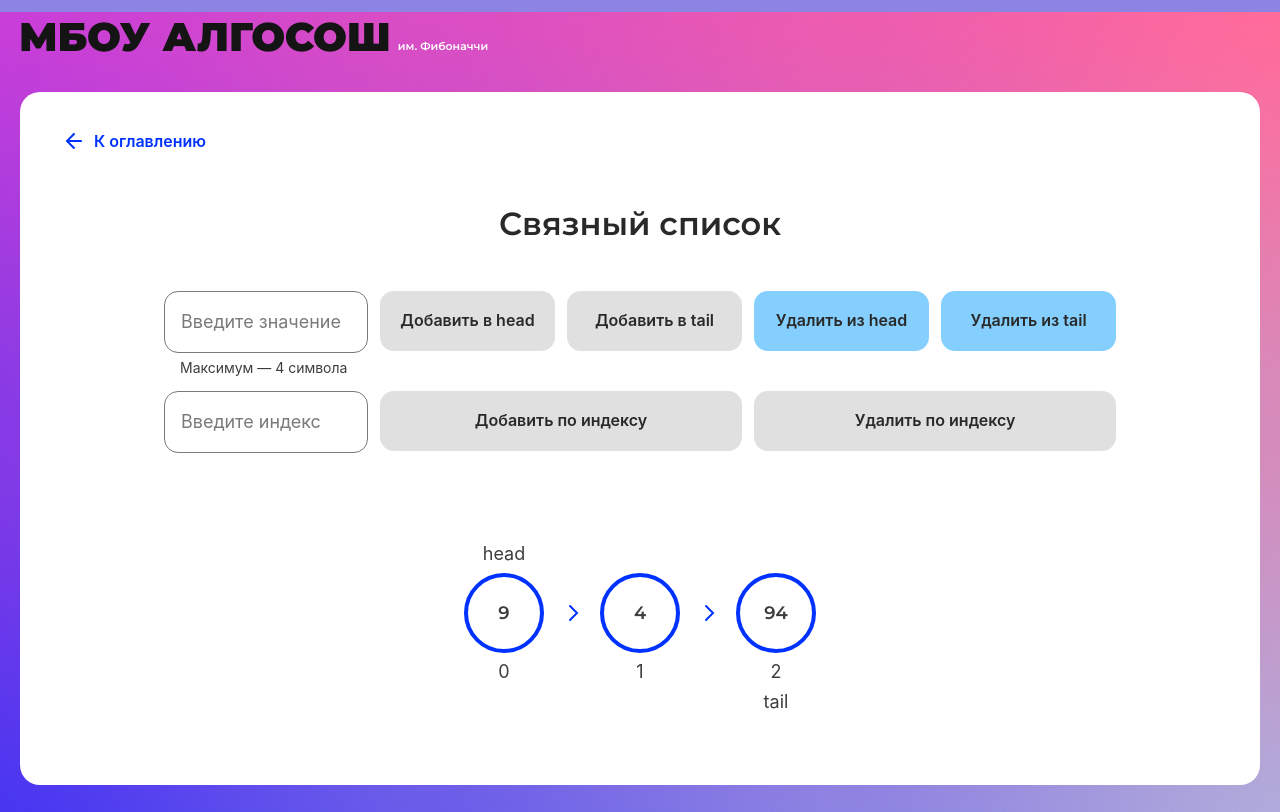
List tests › Add element to head
This screenshot has width=1280, height=812.
Type "one" into the field with test id "valueInput". click: (266,322)
box: left=164, top=291, right=368, bottom=353
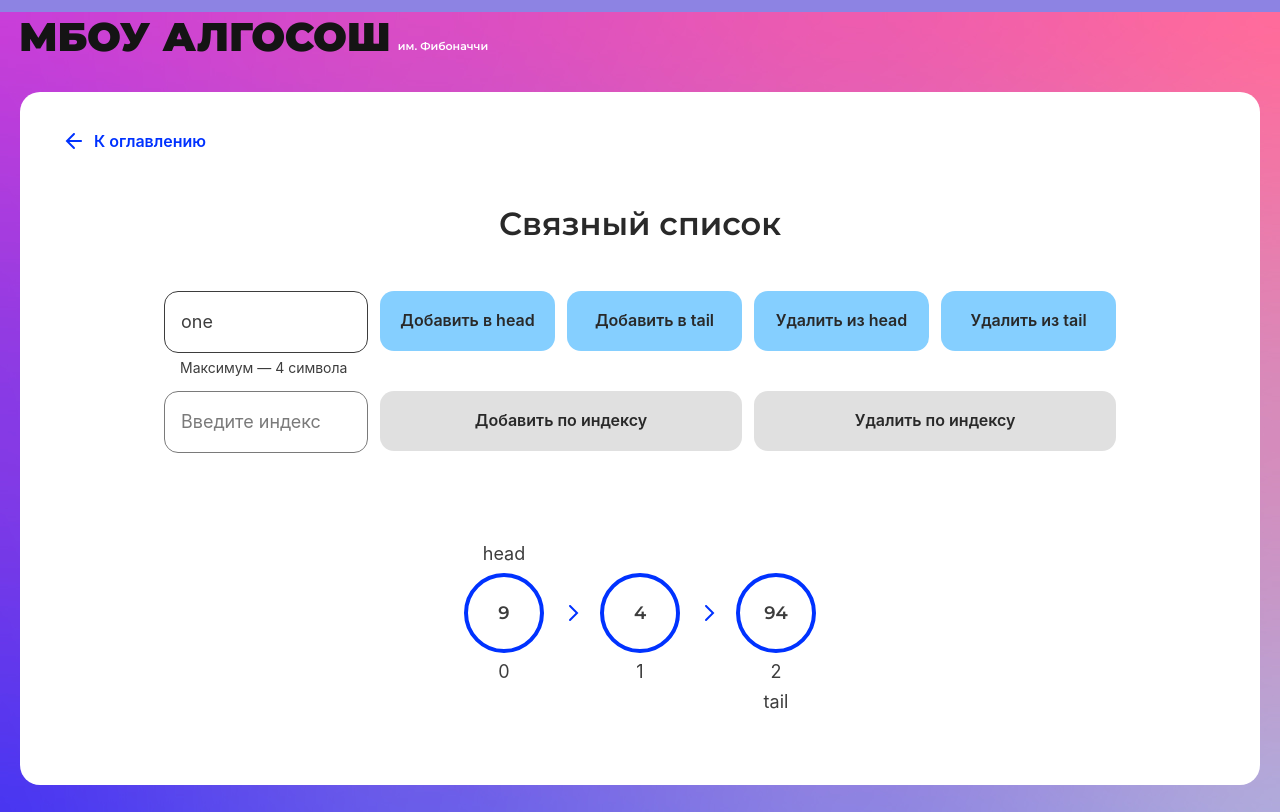
Click the button with test id "addToHead". click: (468,321)
box: left=380, top=291, right=555, bottom=351
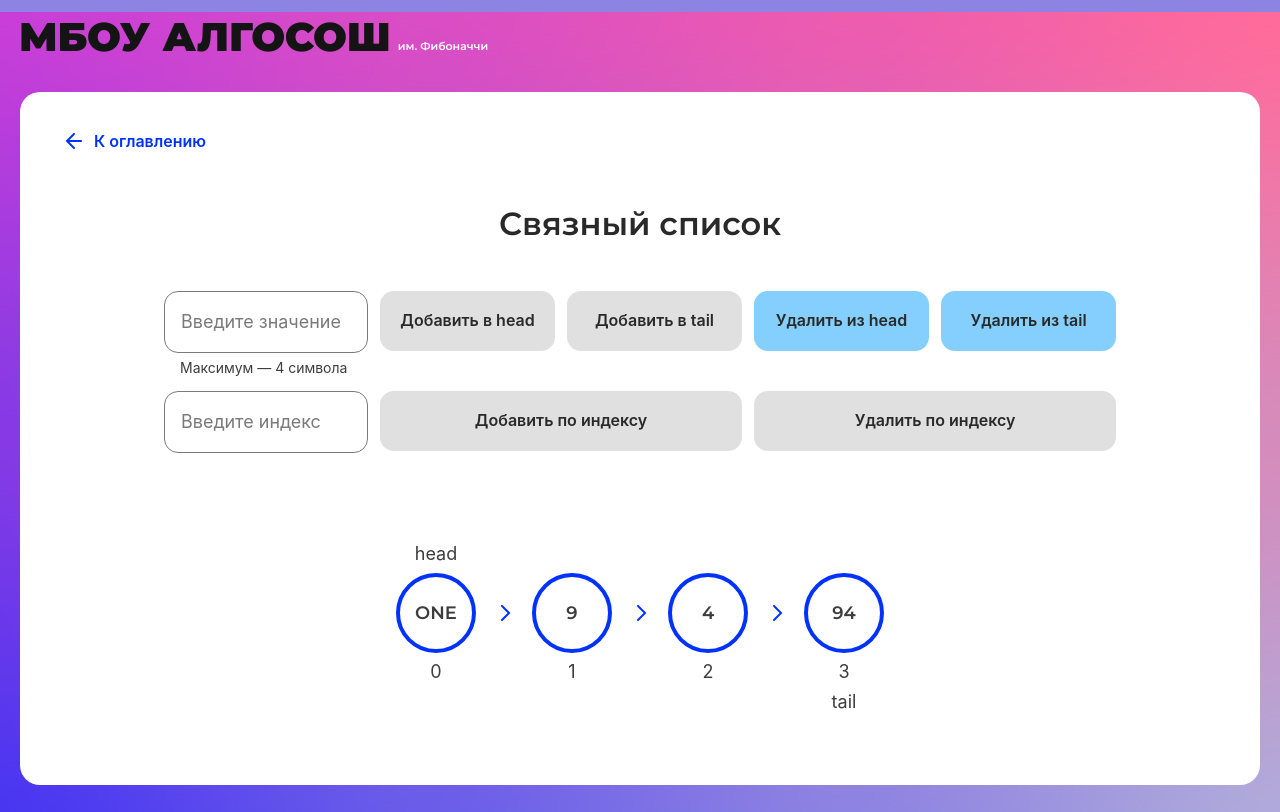
Expected: the button with test id "addByIndex" is disabled, left=380, top=391, right=742, bottom=451
Expected: the button with test id "addToHead" is disabled, left=380, top=291, right=555, bottom=351
Expected: the button with test id "addToTail" is disabled, left=567, top=291, right=742, bottom=351
